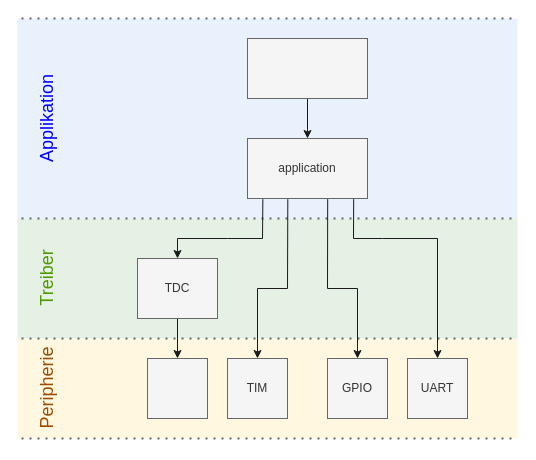
The diagram is 536 pixels wide and 460 high, and some of its shapes have lost their labels. Here are the shapes that lost their labels. From the top down, the box of each, then its label:
(246, 38, 368, 98): main
(146, 358, 208, 418): SPI
